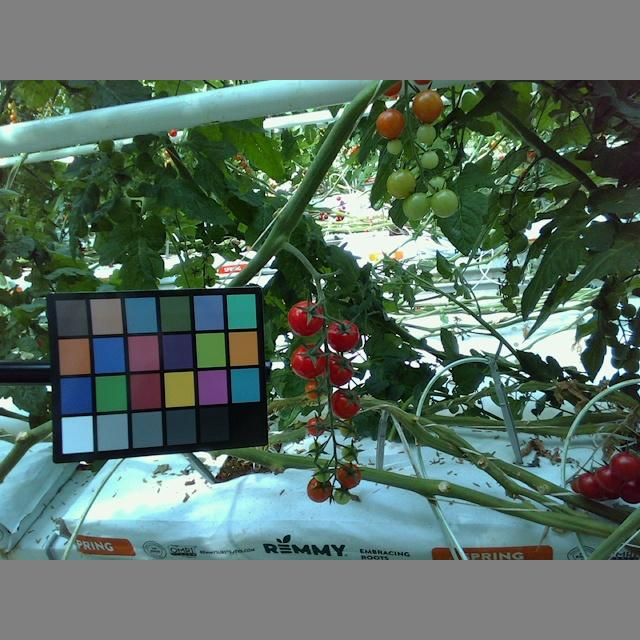green: (386, 168, 416, 201), (431, 185, 458, 219), (402, 190, 430, 222), (415, 124, 435, 144), (339, 441, 359, 461), (313, 462, 332, 483), (421, 147, 438, 170), (308, 441, 326, 460), (385, 137, 403, 155), (334, 485, 350, 505)
pink: (377, 106, 407, 139), (412, 90, 442, 122), (334, 461, 363, 488), (305, 476, 333, 501), (305, 417, 327, 436), (304, 381, 324, 401)
red: (288, 300, 324, 337), (325, 319, 360, 354), (290, 343, 326, 377), (321, 354, 355, 385), (608, 451, 640, 482), (328, 388, 361, 418), (575, 467, 608, 497)
